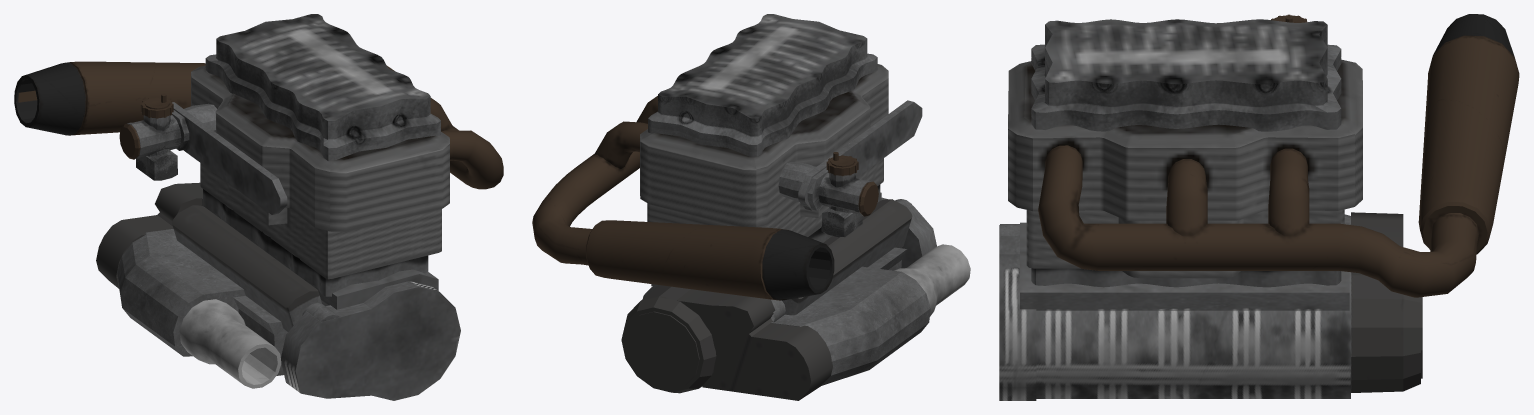
Rendered from buggy_engine.glb.
3 views of the same model, side by side, from view 1: azimuth 30°, elevation 25°; view 2: azimuth 150°, elevation 25°; view 3: azimuth 270°, elevation 25° (orthographic). The views are drawn at different scales.
Visible parts, largest first — view 1: polySurface64, pCube11, polySurface72, polySurface70, polySurface62, pCube10, pCube14, pCube15, polySurface65, polySurface67, pCylinder58, pCube13 (+2 smaller); view 2: polySurface62, polySurface64, pCube11, polySurface70, polySurface67, polySurface71, pCube14, pCube15, pCylinder58, pCube10, polySurface73, polySurface72 (+3 smaller); view 3: polySurface62, polySurface71, polySurface64, pCube11, pCube13, polySurface72, polySurface65, pCube10, polySurface73, polySurface56, polySurface67.
Part boxes in pixels (x1,y1,x2,y2): polySurface64: (205,14,440,161); pCube11: (191,65,449,231); polySurface72: (281,281,460,400); polySurface70: (117,229,287,388); polySurface62: (14,61,503,189); pCube10: (200,163,441,279); pCube14: (172,205,321,331); pCube15: (172,102,287,214); polySurface65: (203,189,428,296); polySurface67: (96,182,202,288); pCylinder58: (119,103,216,159); pCube13: (202,198,438,309); polySurface62: (532,151,834,300); polySurface64: (648,14,877,156); pCube11: (640,64,888,227); polySurface70: (770,244,970,386); polySurface67: (677,289,832,400); polySurface71: (621,284,716,393); pCube14: (773,199,912,315); pCube15: (798,100,922,210); pCylinder58: (778,162,878,216); pCube10: (647,158,883,236); polySurface73: (595,121,647,168); polySurface72: (881,197,936,268); polySurface62: (1038,14,1519,297); polySurface71: (1036,272,1422,398); polySurface64: (1031,19,1341,131); pCube11: (1008,59,1362,220); pCube13: (1020,222,1349,310); polySurface72: (999,225,1036,400); polySurface65: (1031,268,1341,287); pCube10: (1026,209,1344,278); polySurface73: (1268,148,1309,236); polySurface56: (1166,159,1207,236); polySurface67: (1351,212,1403,246).
Size of the model in its own units: 0.1352 by 0.112 by 0.1543.
3 materials, 3 textured.
